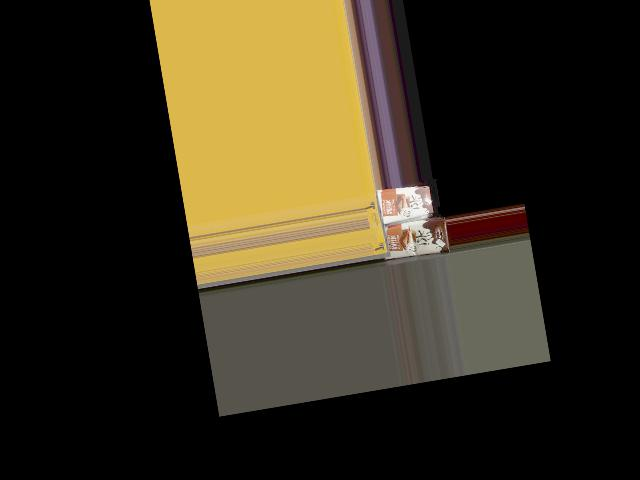chocolate: (369, 178, 435, 225)
